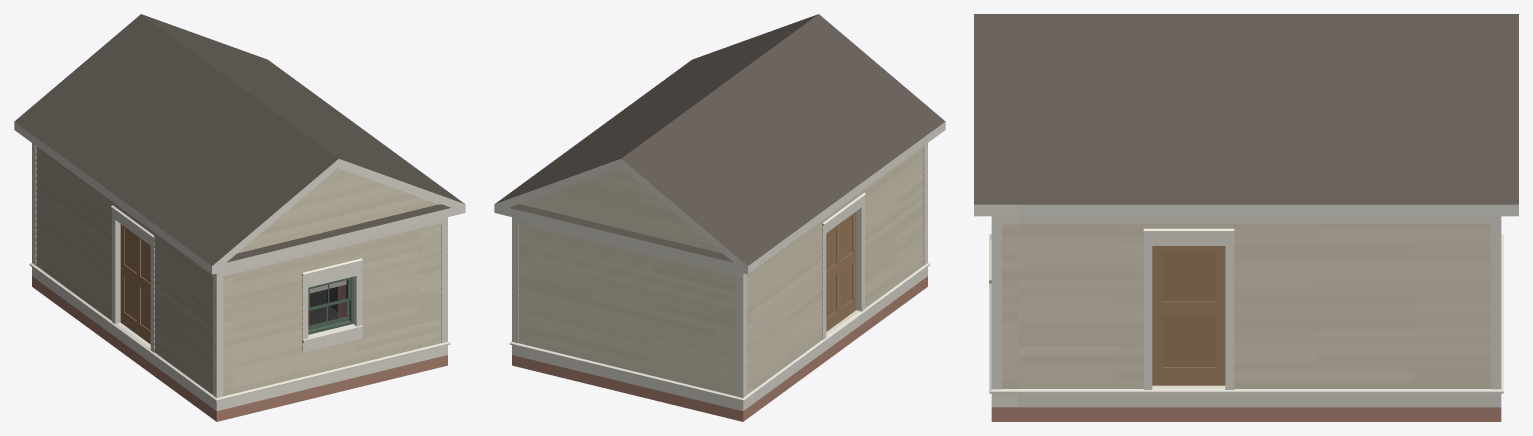
The model's file is house_1630_prairie_coach_house__as_standing_1904.glb.
3 views of the same model, side by side, from view 1: azimuth 30°, elevation 25°; view 2: azimuth 150°, elevation 25°; view 3: azimuth 270°, elevation 25° (orthographic). The views are drawn at different scales.
Parts seen in each view (by area): view 1: house_1630_prairie_coach_house__as_standing_1904; view 2: house_1630_prairie_coach_house__as_standing_1904; view 3: house_1630_prairie_coach_house__as_standing_1904.
Part boxes in pixels (<box>): house_1630_prairie_coach_house__as_standing_1904: <box>14,14,465,421</box>; house_1630_prairie_coach_house__as_standing_1904: <box>494,14,945,421</box>; house_1630_prairie_coach_house__as_standing_1904: <box>974,14,1518,421</box>.
Size of the model in its own units: 4.97 by 4.5 by 6.72.
